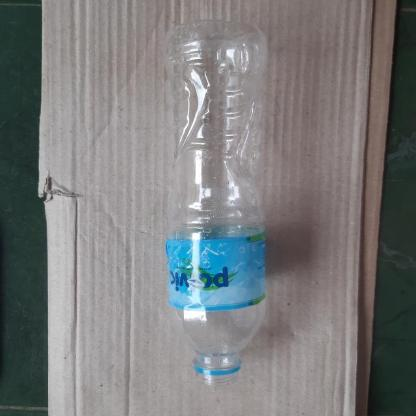Plastic Bottle: (164, 20, 270, 386)
